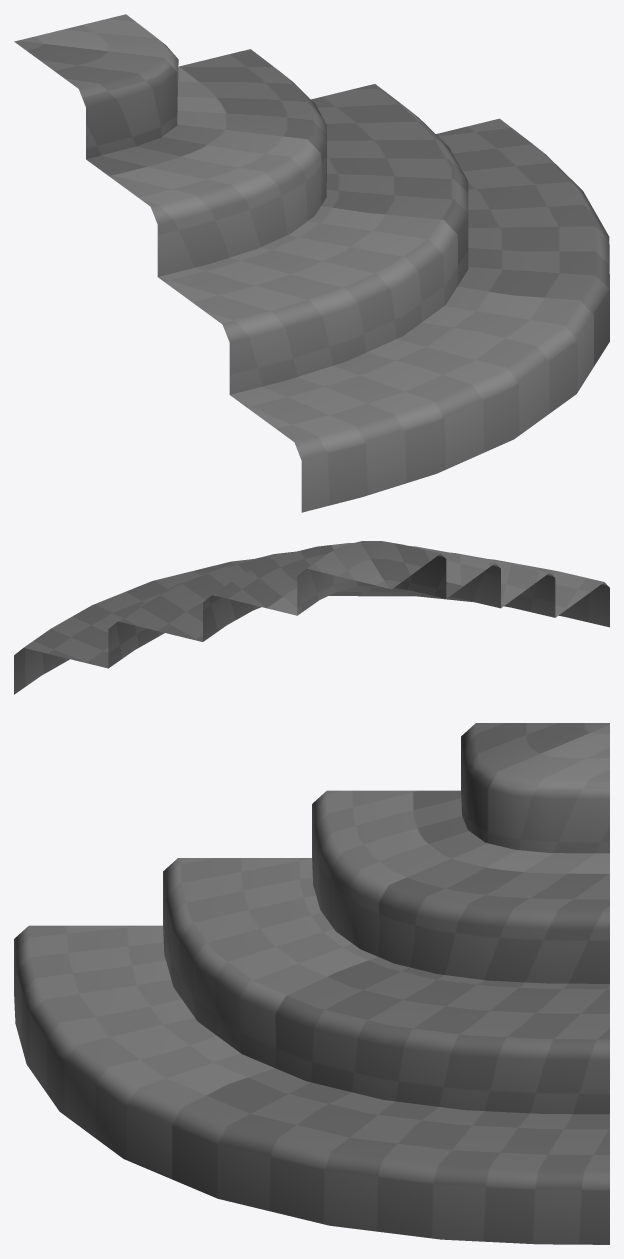
File: StairsCorner_X2_Y1_Z2.fbx
3 views of the same model, one above another, from view 1: azimuth 30°, elevation 25°; view 2: azimuth 150°, elevation 25°; view 3: azimuth 270°, elevation 25° (orthographic). The views are drawn at different scales.
Visible parts, largest first — view 1: StairsCorner_X2_Y1_Z2; view 2: StairsCorner_X2_Y1_Z2; view 3: StairsCorner_X2_Y1_Z2.
Boxes of the visible parts, x1,y1,x2,y2 form: StairsCorner_X2_Y1_Z2: (14,14,609,512); StairsCorner_X2_Y1_Z2: (14,541,609,694); StairsCorner_X2_Y1_Z2: (14,723,609,1244).
Size of the model in its own units: 2 by 1 by 2.
